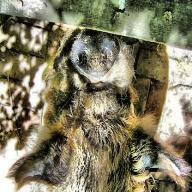boar: (17, 44, 180, 192)
